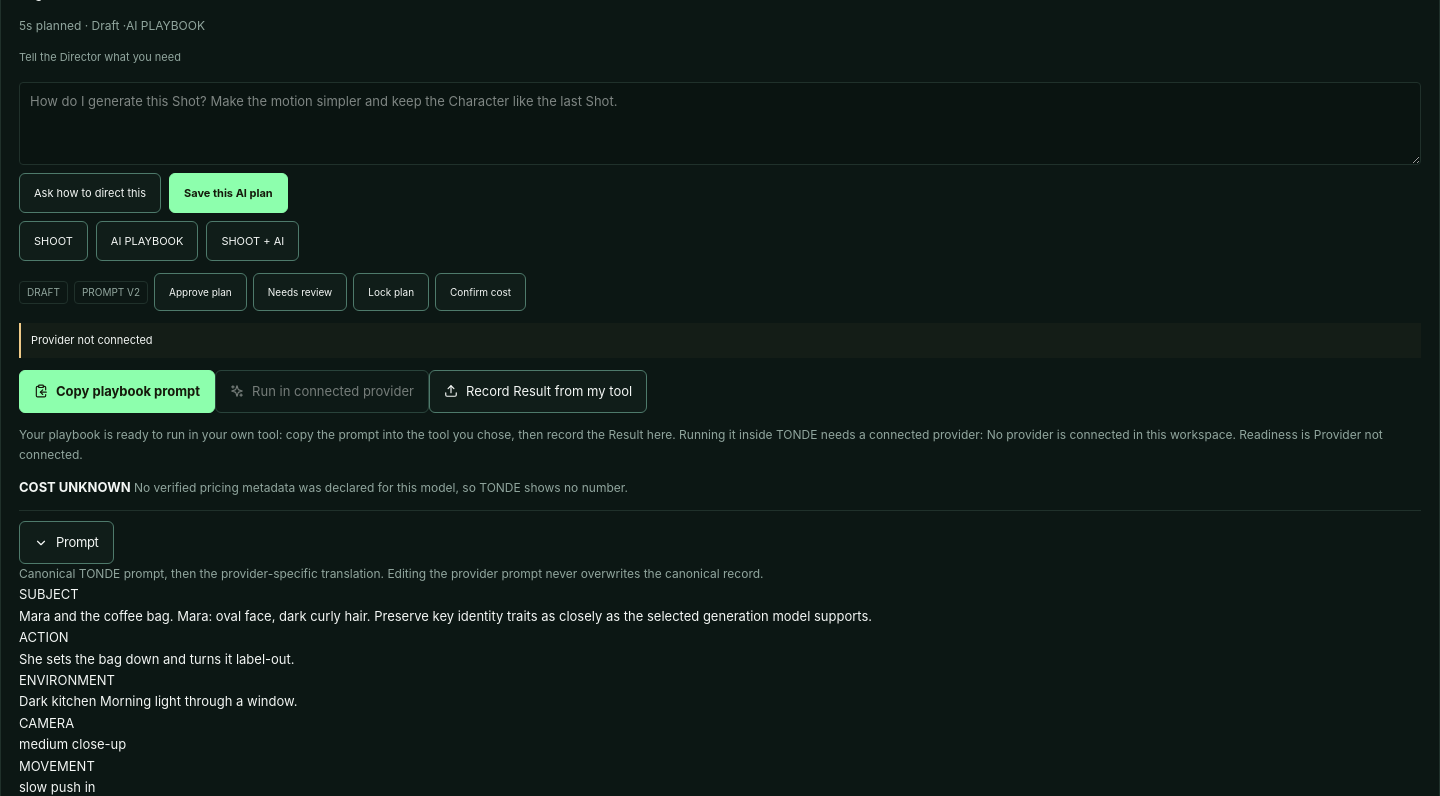
Test: AI Creation surface › records a manual Attempt with an idempotency key when no provider is connected
This screenshot has width=1440, height=796.
(page scrolled)
Click the button "Record Result from my tool". click: (538, 391)
box: left=429, top=370, right=647, bottom=413
(page scrolled)
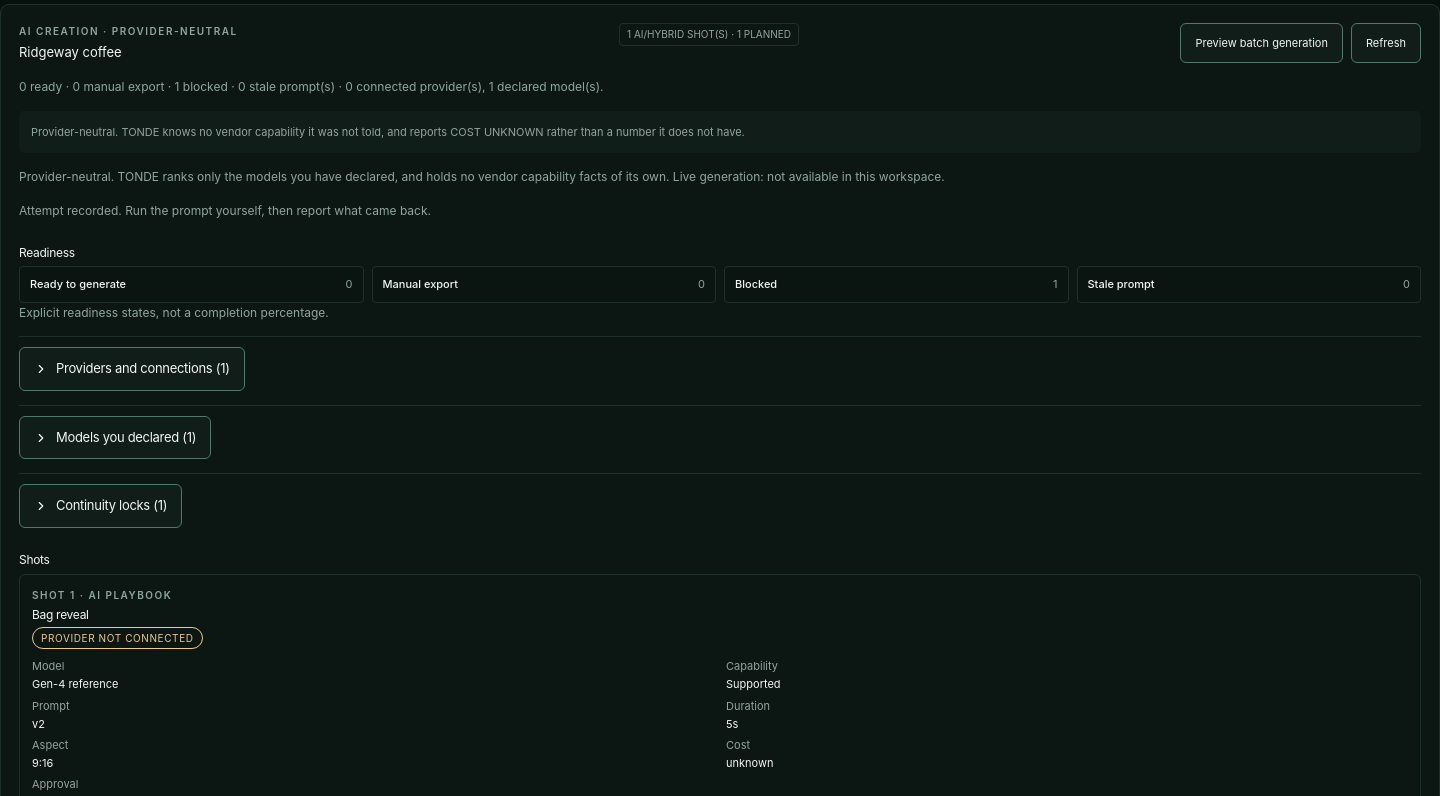
Result: the text "Attempt recorded. Run the prompt yourself, then report what came back." is shown at left=19, top=203, right=431, bottom=218
